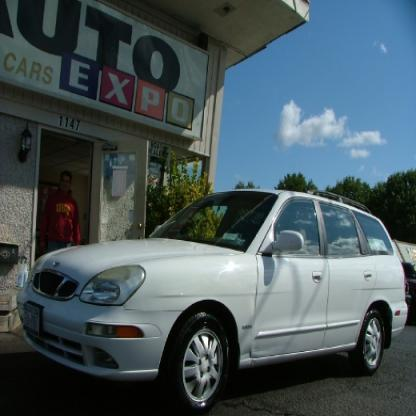Vehicle: (18, 189, 409, 415)
